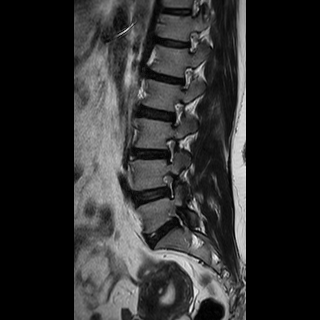RFS0: (165, 94, 187, 131), (173, 62, 196, 95), (160, 133, 182, 167)
RFS1: (157, 168, 182, 201)
